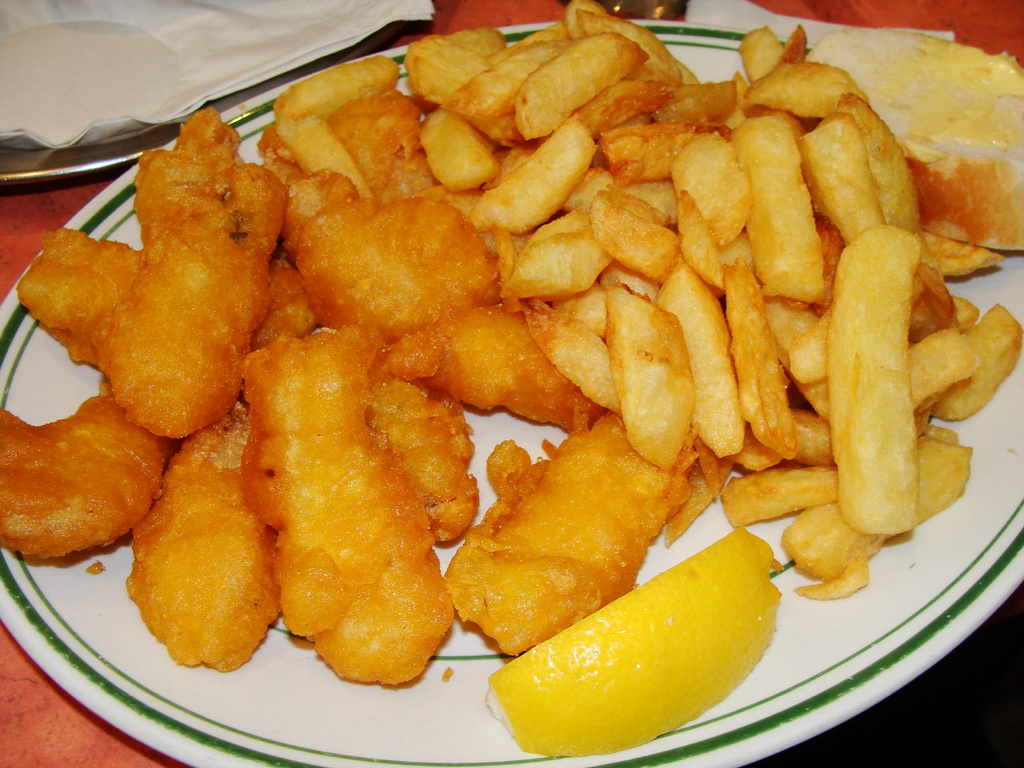French fries: (274, 0, 1023, 598)
